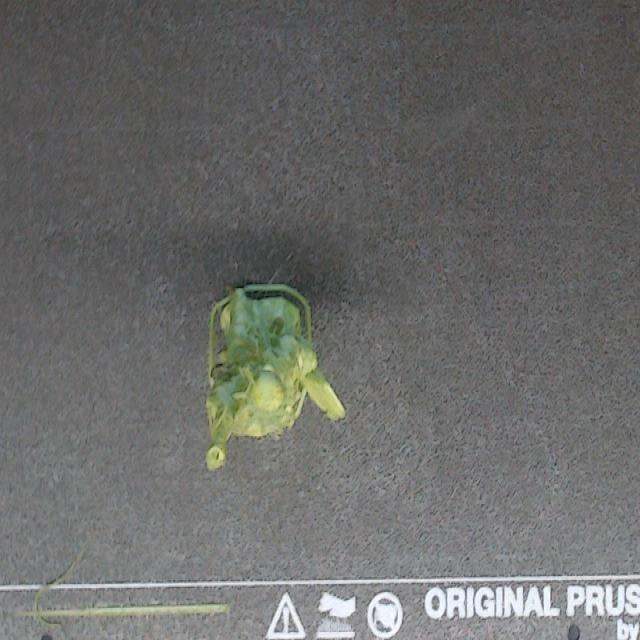mistake: (32, 551, 84, 616), (208, 402, 226, 425), (208, 449, 223, 466)
